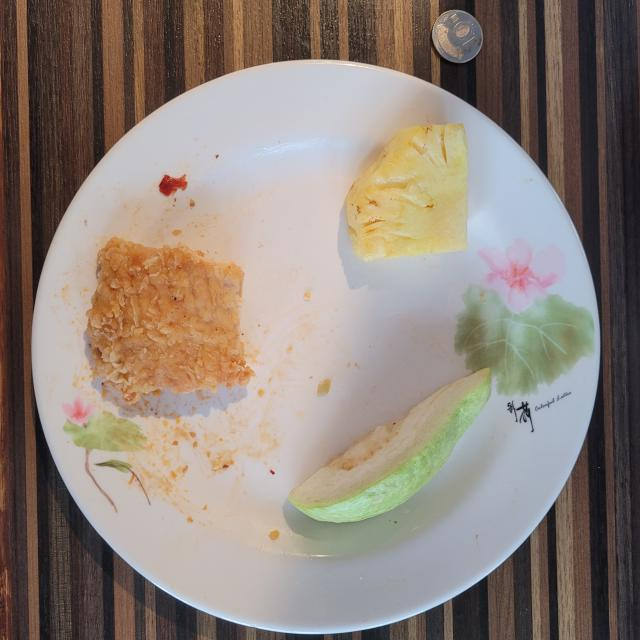coin: (431, 10, 482, 64)
fried chicken cutlet: (86, 238, 254, 404)
guava -sliced-: (289, 368, 491, 522)
pineapple: (345, 124, 468, 261)
